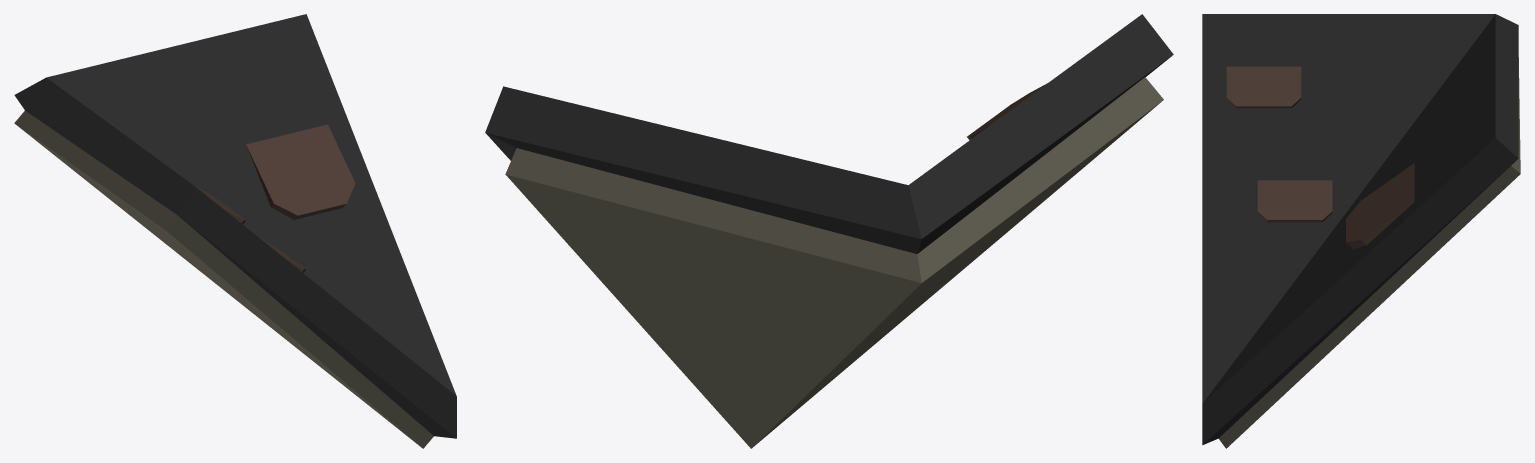
Rendered from LPHorror_RoofInnerForner.fbx.
3 renders of one model, left to right at view 1: azimuth 30°, elevation 25°; view 2: azimuth 150°, elevation 25°; view 3: azimuth 270°, elevation 25°, orthographic. The views are drawn at different scales.
Visible parts, largest first — view 1: RoofInnerForner; view 2: RoofInnerForner; view 3: RoofInnerForner.
Boxes of the visible parts, x1,y1,x2,y2 form: RoofInnerForner: (14,14,456,448); RoofInnerForner: (485,14,1173,448); RoofInnerForner: (1202,14,1520,448).
Size of the model in its own units: 217 by 241 by 217.
